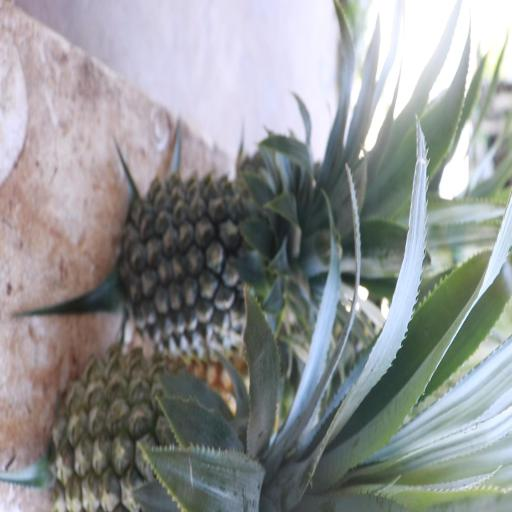------------------------------: (53, 346, 277, 512)
